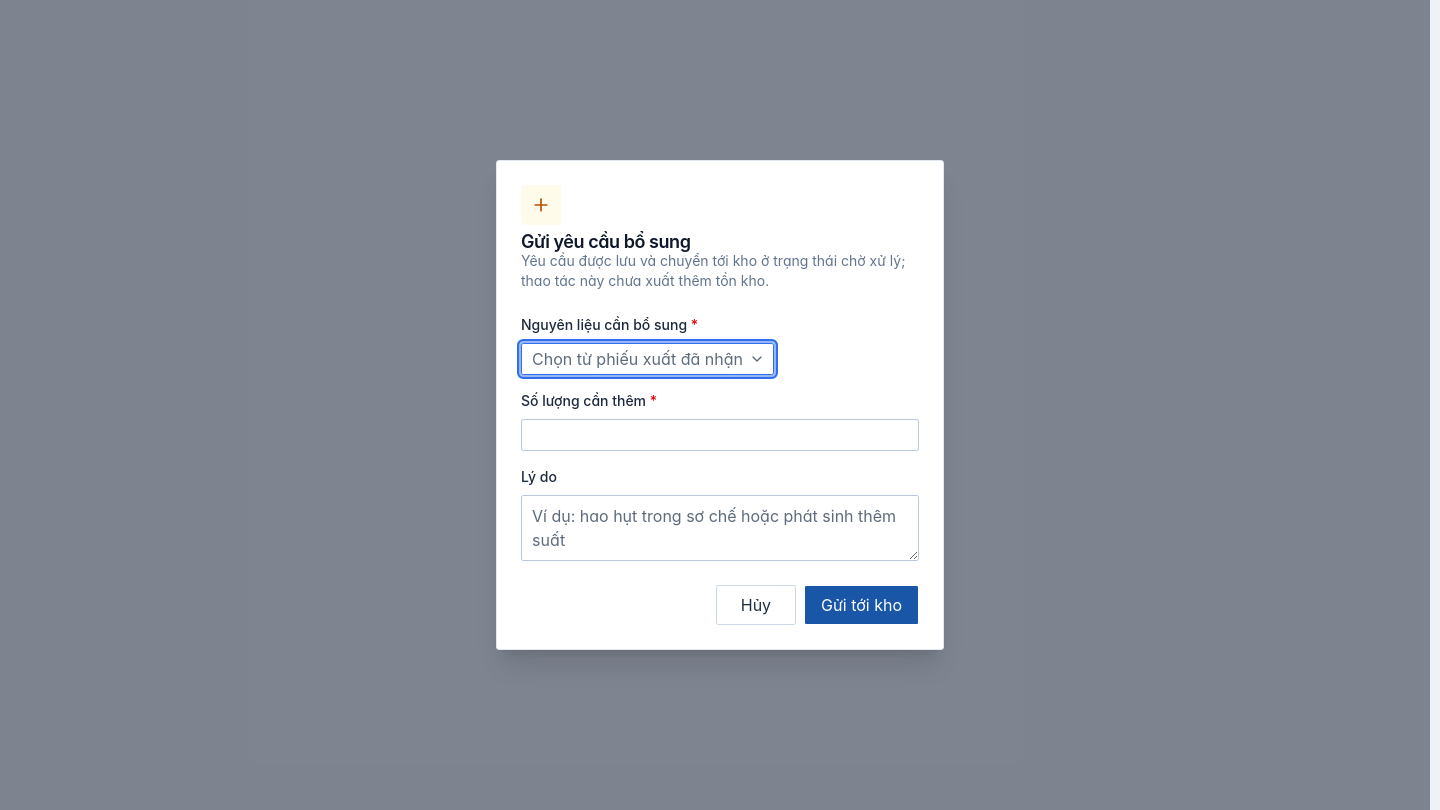
Test case: SupplementalRequestDialog validation contract › distinguishes same-name source lines with customer, shift and tier labels
Click the dropdown named "Nguyên liệu cần bổ sung" at {"x": 648, "y": 359}, box [521,343,774,375]
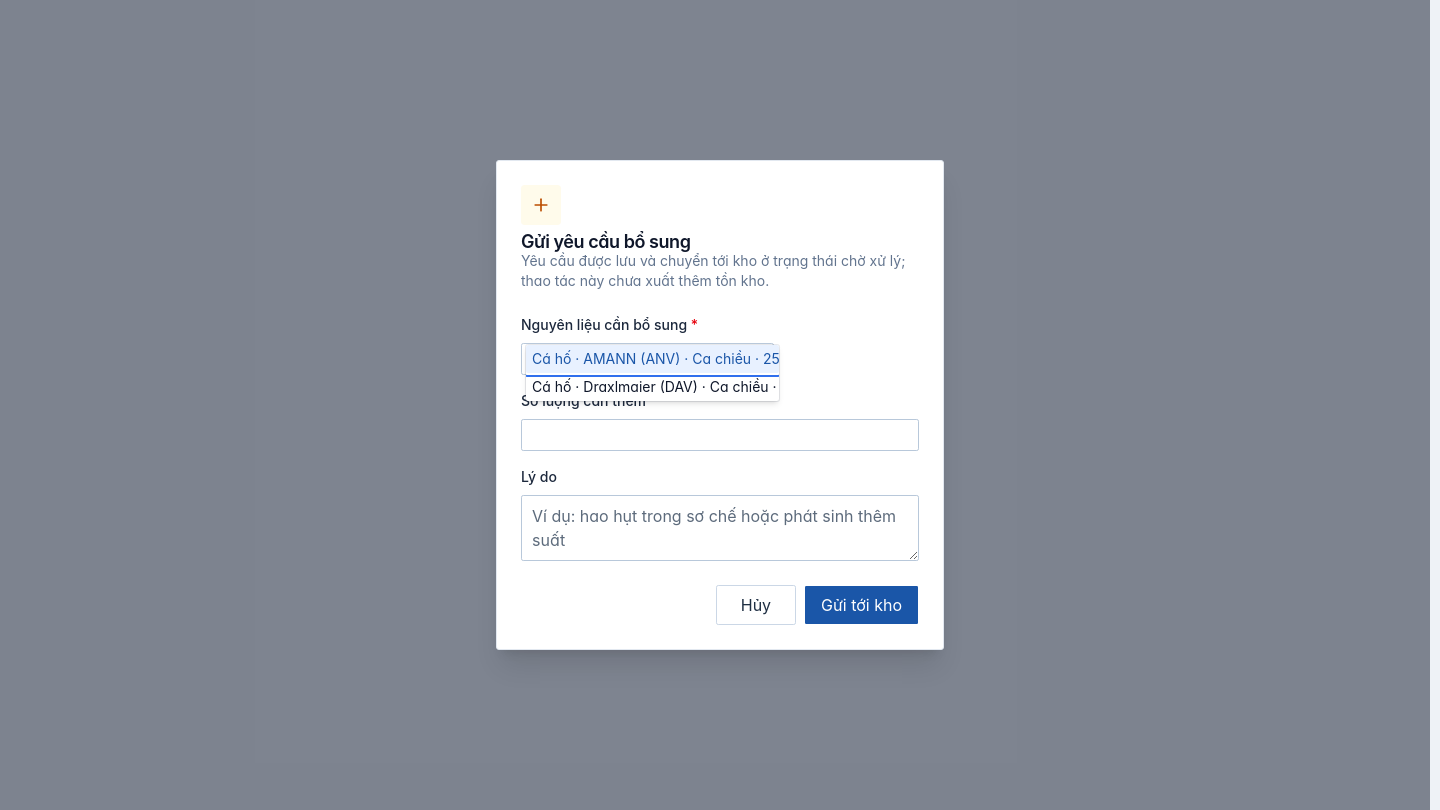
Now the option "Cá hố · AMANN (ANV) · Ca chiều · 25.000 ₫ · đã nhận 5 kg" is shown, box [526,345,779,373]
Now the option "Cá hố · Draxlmaier (DAV) · Ca chiều · 25.000" is shown, box [526,373,779,401]
